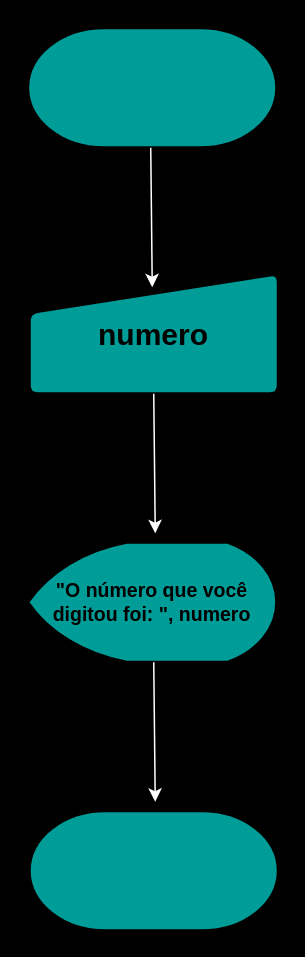
Some shapes in this 305 by 957 pixel diagram are drawn without their labels. The shapes that lost their labels are listed below. From the top down, each one's centre as x and y in pixels, then its label:
At [152,87]: "Início".
At [153,870]: "Fim".
